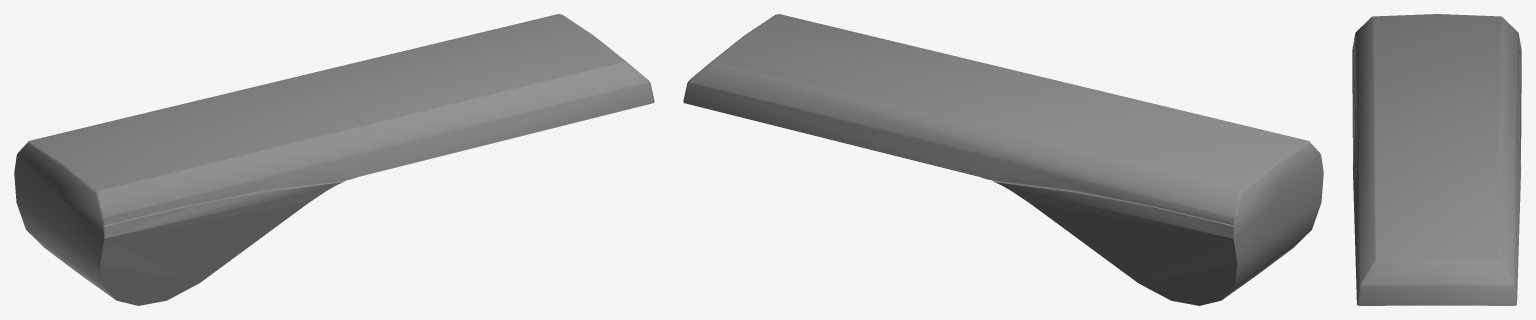
File: Streetlight_10_Mini.glb
The picture shows the model from 3 angles, left to right: view 1: azimuth 30°, elevation 25°; view 2: azimuth 150°, elevation 25°; view 3: azimuth 270°, elevation 25°; orthographic projection. The views are drawn at different scales.
Visible parts, largest first — view 1: BezierCurve.001; view 2: BezierCurve.001; view 3: BezierCurve.001.
Part boxes in pixels (x1,y1,x2,y2): BezierCurve.001: (14,14,654,305); BezierCurve.001: (683,14,1323,305); BezierCurve.001: (1352,14,1521,305).
Size of the model in its own units: 0.616 by 0.1379 by 0.1732.
3 materials, 2 textured.
